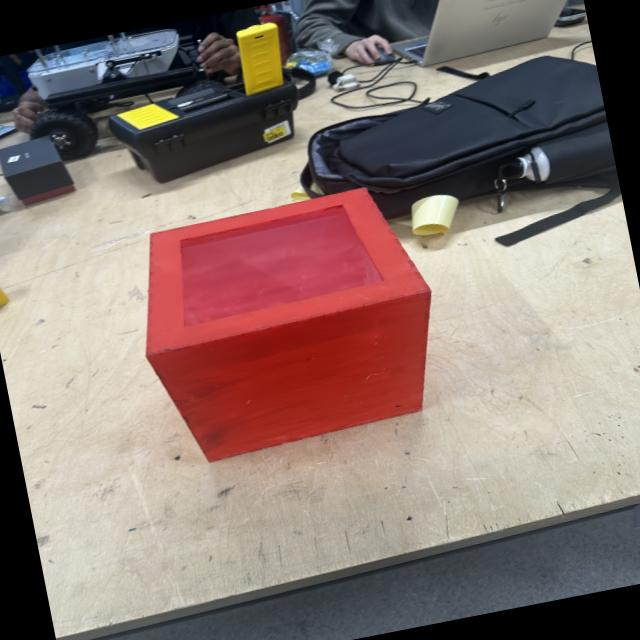red_bin: (120, 178, 457, 472)
